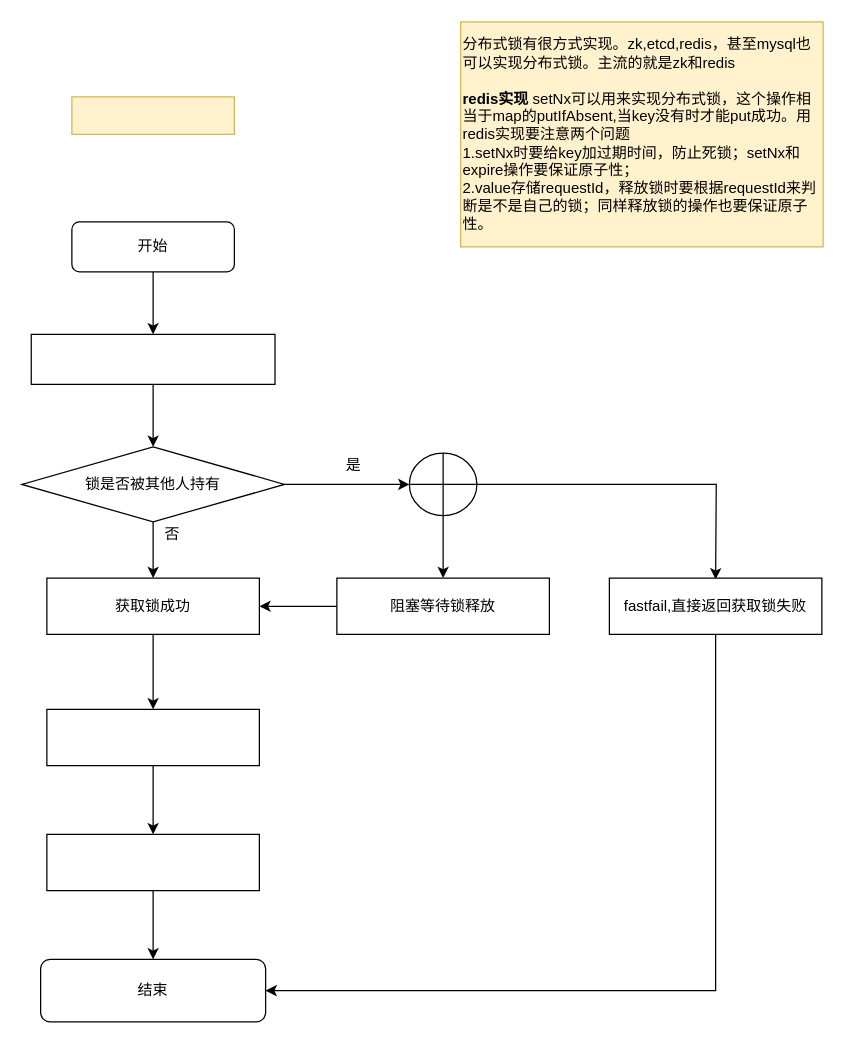
Some shapes in this 845 by 1044 pixel diagram are drawn without their labels. The centre of each missing label's shape, as x and y in pixels:
"setNxExpire(busKey,requestId ,expireTime)" goes at (x=152, y=358).
"执行业务" goes at (x=152, y=737).
"获取锁流程" goes at (x=152, y=115).
"释放锁" goes at (x=152, y=862).
